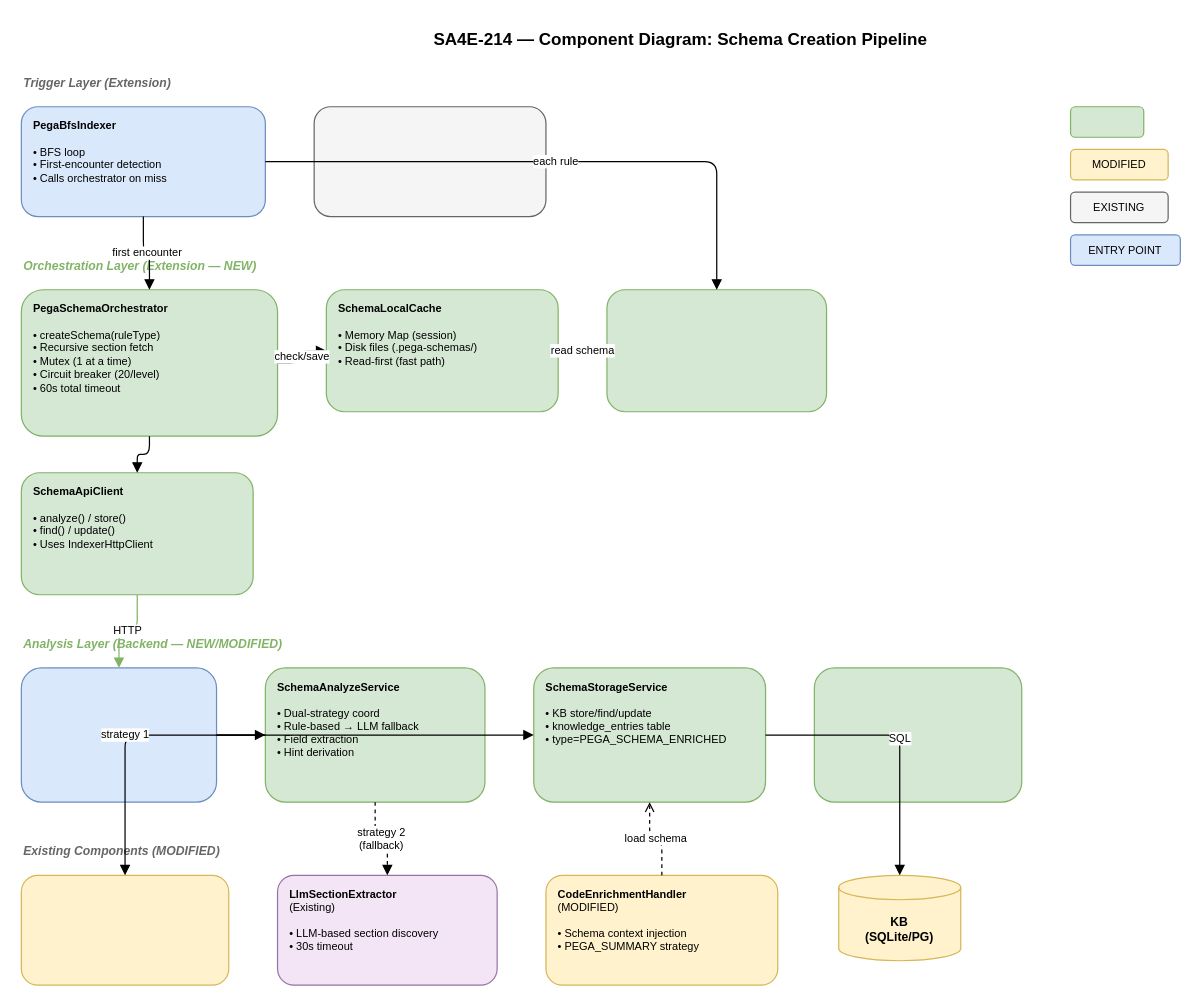
Image size: 1202x1007. Some labels were removed from this diagram. Each missing label, with the box of its shape:
HarnessParser (MODIFIED) • Stream-rendered detect • LLM fallback trigger: (20, 874, 229, 985)
NEW: (1069, 106, 1144, 137)
pega-schema-routes • POST /analyze • POST /store • GET /find • PATCH /update: (20, 667, 217, 802)
PegaStreamIngester • POST rule to backend • Returns unresolvedDeps: (313, 106, 546, 217)
SchemaAggregator • Merge fields from multiple analyses • Build EnrichedSchema: (813, 667, 1022, 802)
SchemaValidator • findNewFields() • Append-only (BR-07) • ≤50ms per instance: (606, 289, 827, 412)
